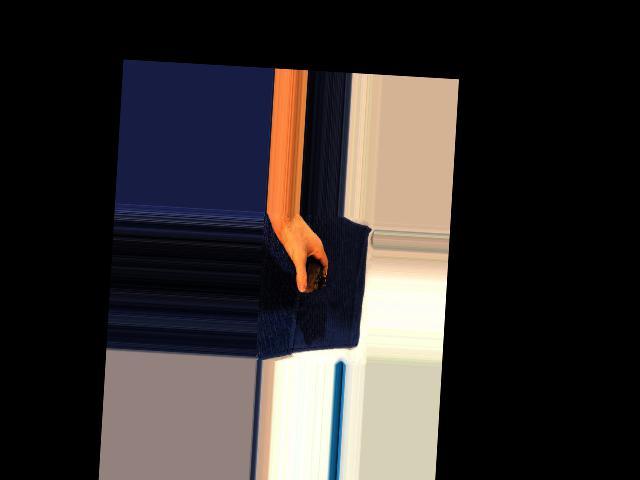beet: (281, 255, 327, 294)
